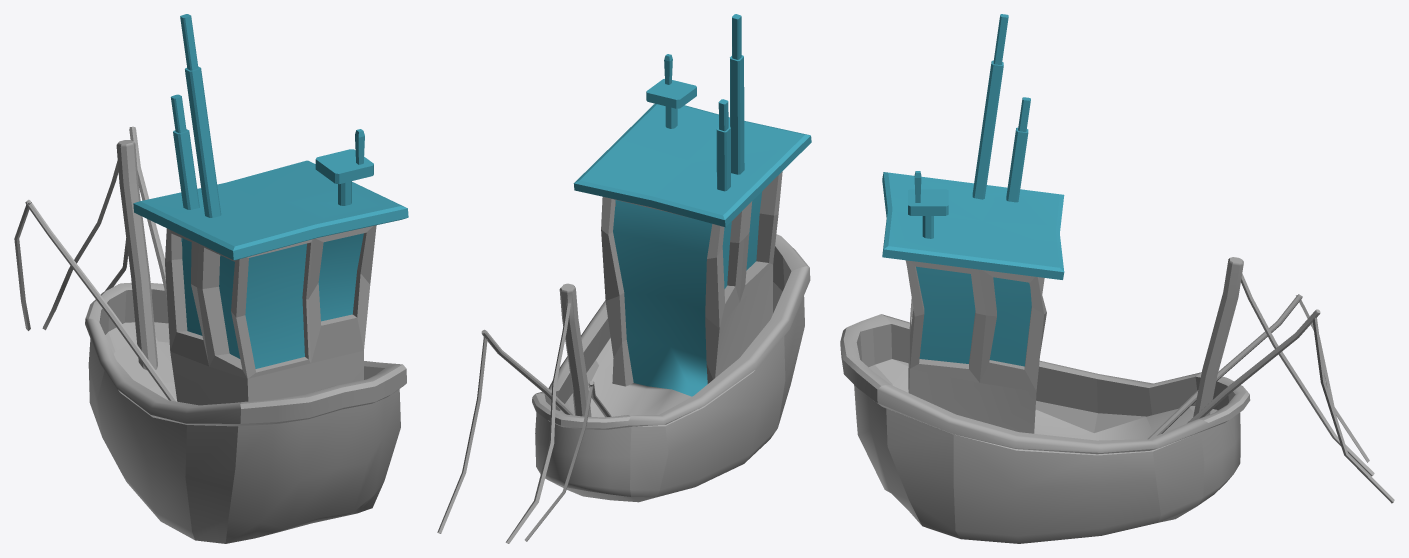
File: Fisherboat.fbx
3 views of the same model, side by side, from view 1: azimuth 30°, elevation 25°; view 2: azimuth 150°, elevation 25°; view 3: azimuth 270°, elevation 25° (orthographic). The views are drawn at different scales.
Parts seen in each view (by area): view 1: fisherboat; view 2: fisherboat; view 3: fisherboat.
Boxes of the visible parts, x1,y1,x2,y2 form: fisherboat: (14, 14, 408, 543); fisherboat: (437, 14, 811, 543); fisherboat: (840, 14, 1394, 543).
Size of the model in its own units: 2.55 by 6.15 by 6.69.
